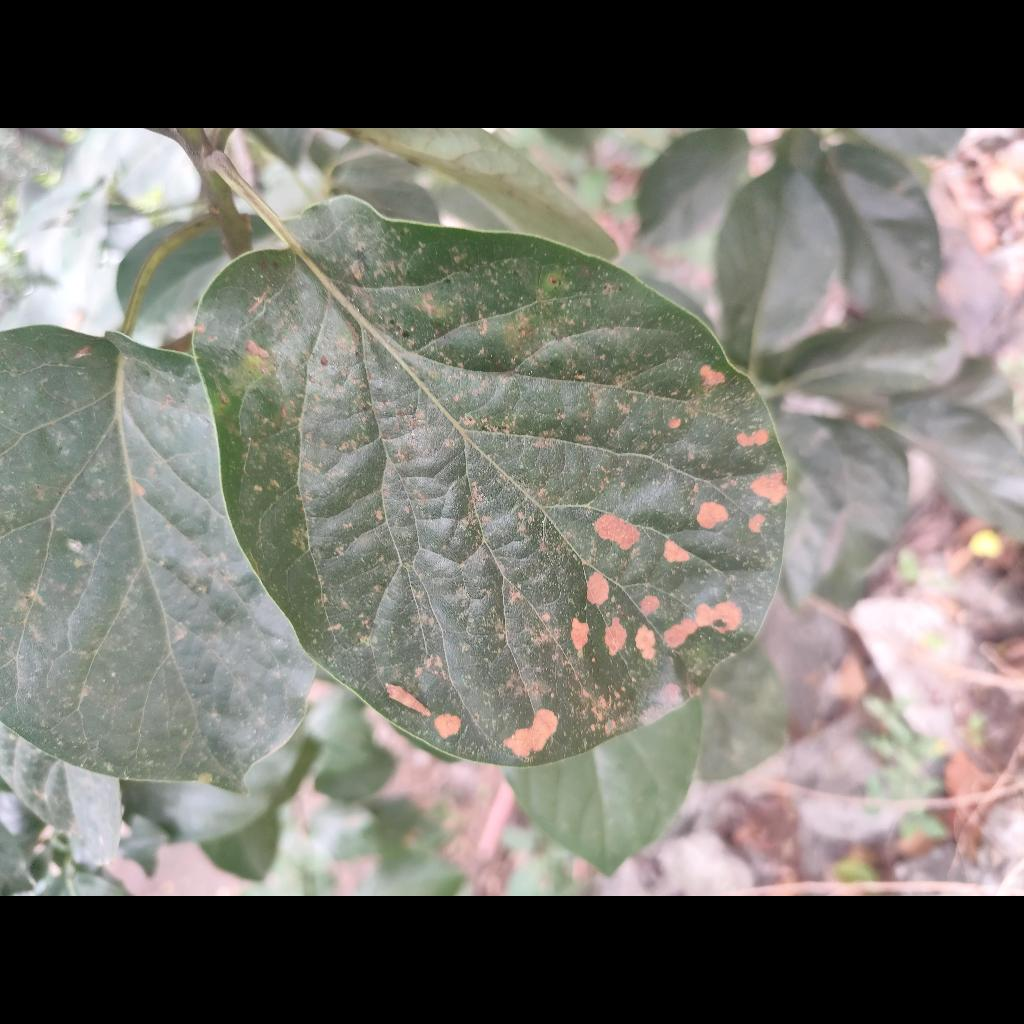antracnosis_hoja: (195, 197, 786, 766)
